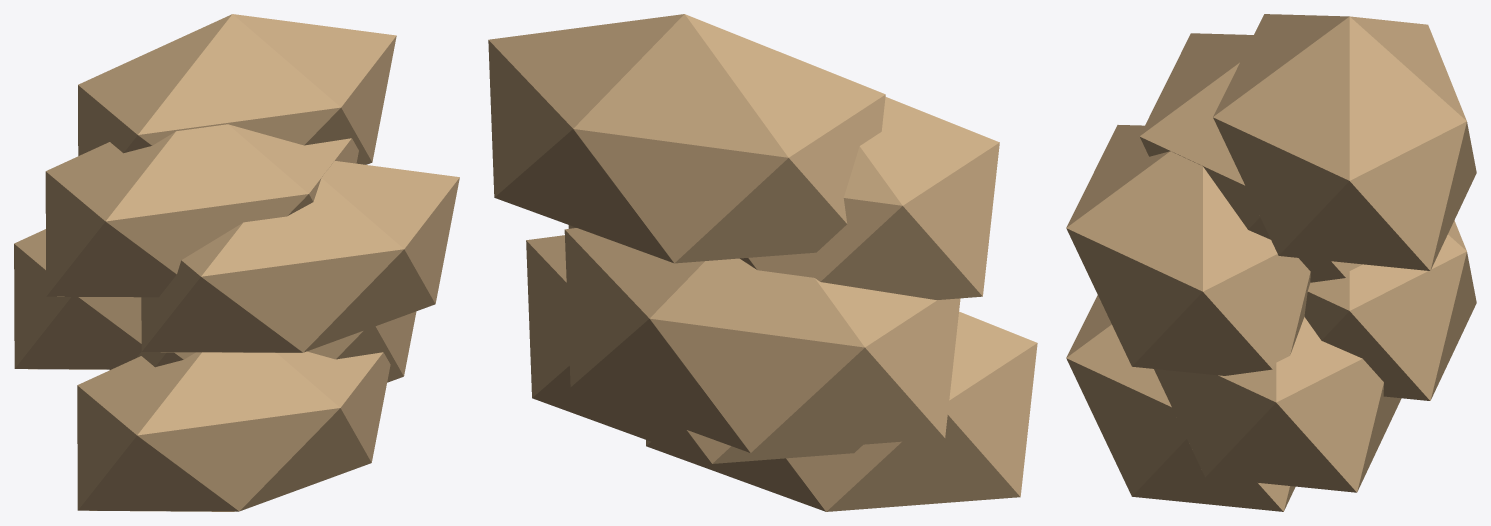
Rendered from item_018_hazelnuts_l.glb.
3 renders of one model, left to right at view 1: azimuth 30°, elevation 25°; view 2: azimuth 150°, elevation 25°; view 3: azimuth 270°, elevation 25°, orthographic. The views are drawn at different scales.
Parts seen in each view (by area): view 1: item_018_hazelnuts_l; view 2: item_018_hazelnuts_l; view 3: item_018_hazelnuts_l.
Part boxes in pixels (x1=…): item_018_hazelnuts_l: x1=14, y1=14, x2=459, y2=511; item_018_hazelnuts_l: x1=488, y1=14, x2=1037, y2=511; item_018_hazelnuts_l: x1=1066, y1=14, x2=1476, y2=511.
Bounding box in the file's own units: 0.419 × 0.457 × 0.3359.
